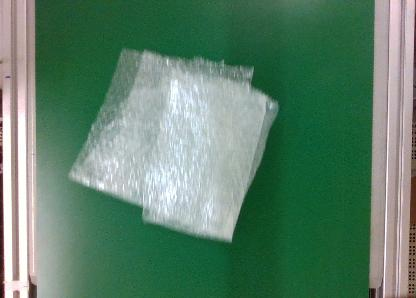Others: (66, 47, 280, 245)
